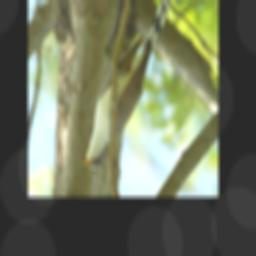Cuckoo: (79, 0, 169, 170)
